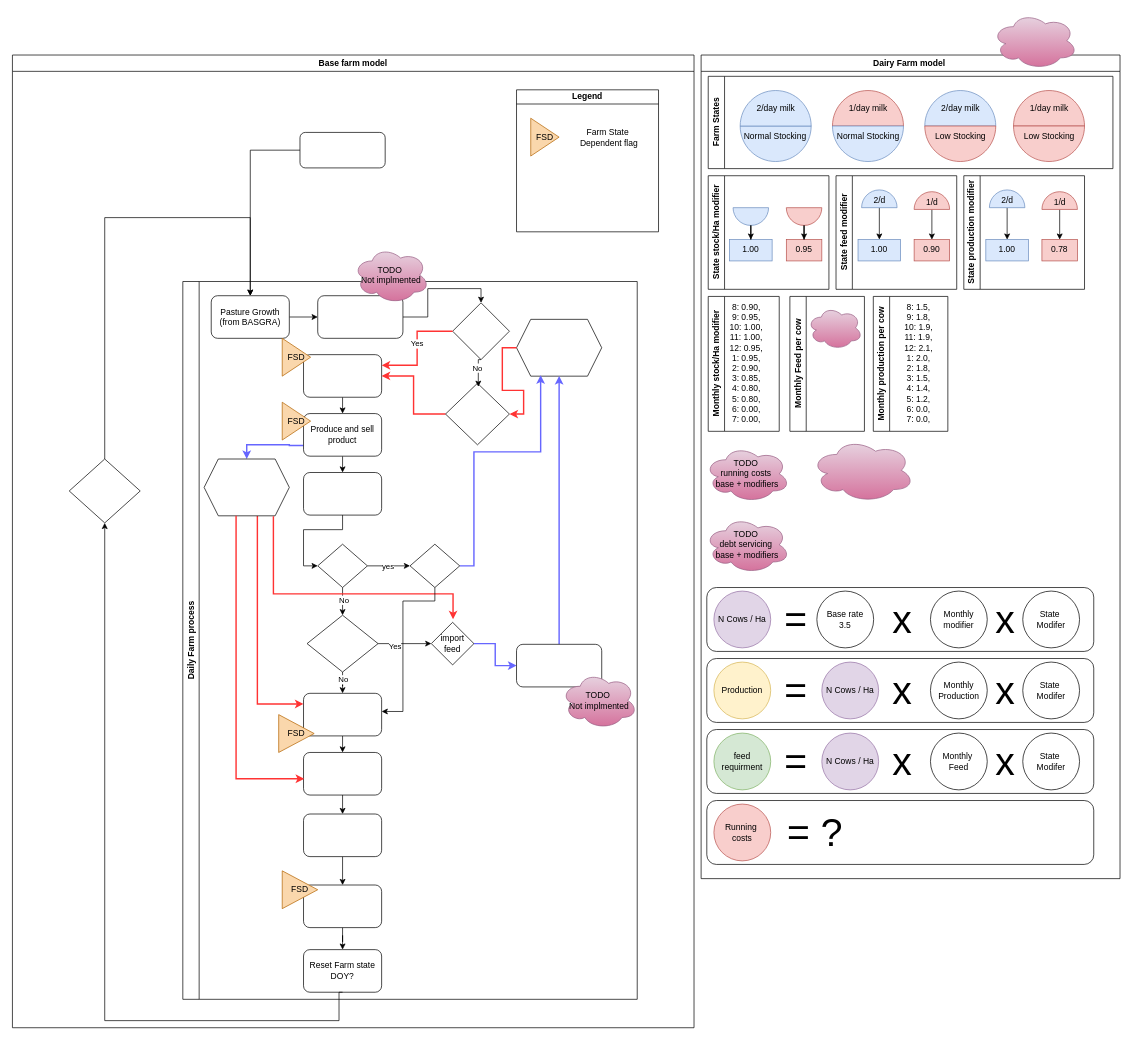
The diagram is 1132 pixels wide and 1040 high, and some of its shapes have lost their labels. The centre of each missing label's shape, as x and y in pixels:
"$$$$ Store" goes at (x=246, y=487).
"Calc debt service" goes at (x=342, y=773).
"Calc Financial metrics" goes at (x=342, y=835).
"Calc Running cost" goes at (x=342, y=714).
"Change Between Farm States?" goes at (x=342, y=906).
"Feed Stock" goes at (x=342, y=375).
"Feed Store efficient DM" goes at (x=559, y=347).
"Growth sufficient" goes at (x=480, y=331).
"Import feed or Cut and store feed" goes at (x=342, y=493).
"Low" goes at (x=804, y=216).
"Next Day" goes at (x=104, y=490).
"norm" goes at (x=750, y=216).
"Reduce yield for feed effeciency (80%)" goes at (x=360, y=316).
"Reduce yield for feed effeciency (95%)" goes at (x=559, y=665).
"Set Start Variables" goes at (x=342, y=150).
"Store below threshold?" goes at (x=342, y=643).
"Store surplus" goes at (x=434, y=566).
"supplement from store" goes at (x=477, y=414).
"Surplus growth?" goes at (x=342, y=566).
"TODO" goes at (x=834, y=327).
"TODO different dairy types?" goes at (x=1034, y=40).
"TODO State transformation triggers" goes at (x=862, y=470).
